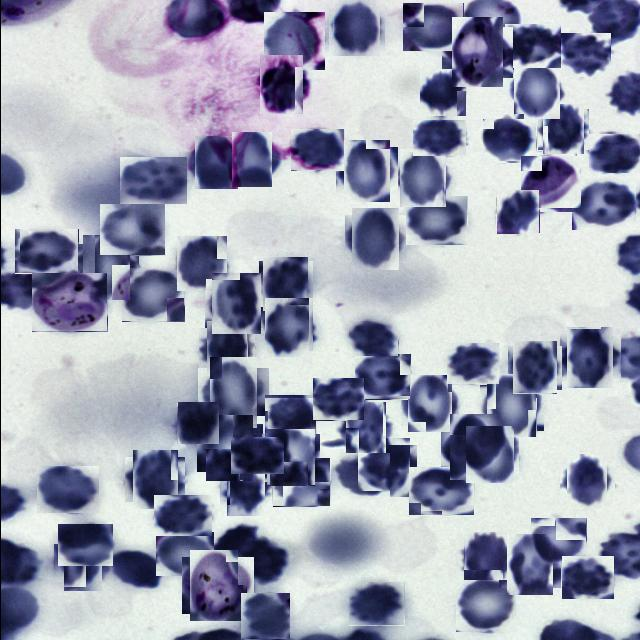difficult: (31, 273, 107, 332)
red blood cell: (203, 362, 262, 422), (263, 12, 324, 70), (99, 203, 165, 256), (121, 268, 184, 322), (571, 178, 635, 230), (444, 418, 502, 475), (200, 419, 258, 476), (482, 378, 540, 434), (76, 240, 134, 296), (408, 467, 474, 516), (405, 196, 468, 246), (119, 157, 186, 204), (455, 580, 515, 632), (402, 3, 463, 52), (339, 143, 393, 198), (208, 276, 262, 331), (348, 212, 402, 266), (562, 330, 616, 384), (262, 300, 316, 354), (502, 538, 556, 592), (36, 466, 98, 513), (14, 229, 78, 274), (272, 458, 330, 507), (463, 428, 516, 481), (174, 238, 227, 290), (263, 432, 316, 484), (360, 442, 412, 494), (396, 152, 448, 204), (128, 454, 180, 506), (510, 65, 562, 117), (330, 2, 382, 54), (254, 58, 306, 110), (530, 518, 586, 565), (354, 354, 410, 400), (332, 453, 388, 499), (155, 532, 213, 576), (404, 378, 454, 429), (462, 533, 512, 583), (260, 259, 310, 309), (348, 582, 404, 626), (504, 24, 560, 68), (106, 548, 164, 590), (509, 343, 558, 392), (153, 495, 211, 536), (202, 324, 250, 373), (191, 138, 240, 186), (237, 537, 286, 585), (482, 119, 536, 162), (57, 524, 112, 566), (562, 458, 610, 506), (227, 136, 275, 184), (58, 539, 106, 587), (290, 129, 344, 171), (240, 593, 289, 639), (264, 395, 316, 438), (561, 556, 613, 599), (312, 378, 364, 421), (446, 343, 499, 385), (419, 69, 466, 116), (560, 33, 610, 77), (540, 106, 586, 152), (342, 405, 388, 451), (222, 468, 268, 514), (588, 132, 640, 172), (230, 437, 284, 475), (412, 120, 465, 156), (496, 190, 538, 233), (348, 321, 398, 357), (176, 402, 218, 444)
trophozoite: (184, 553, 250, 618), (446, 22, 507, 83), (522, 153, 578, 210)
